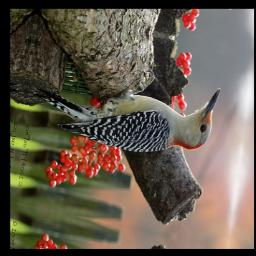Woodpecker: (21, 43, 225, 169)
